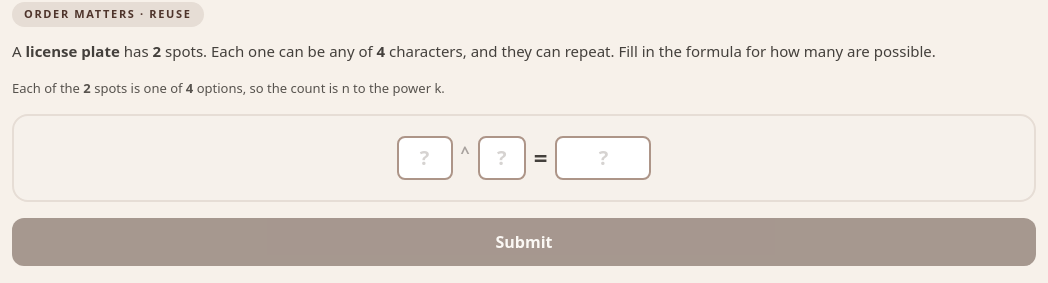
Test case: formula-fill templates (sequence, multiset, distribute) › sequence scores true when every blank is filled correctly
The width and height of the screenshot is (1048, 283).
Type "4" into the field named "sequence base".
click(424, 158); type("4")  # box [396,136,452,180]
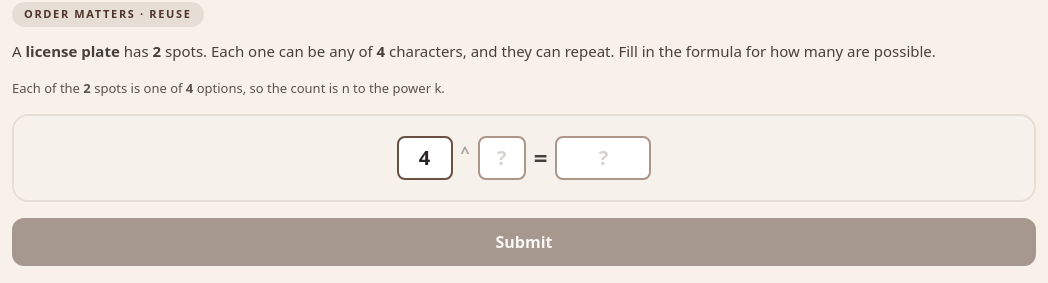
Type "2" into the field named "sequence exponent".
click(502, 158); type("2")  # box [478,136,526,180]
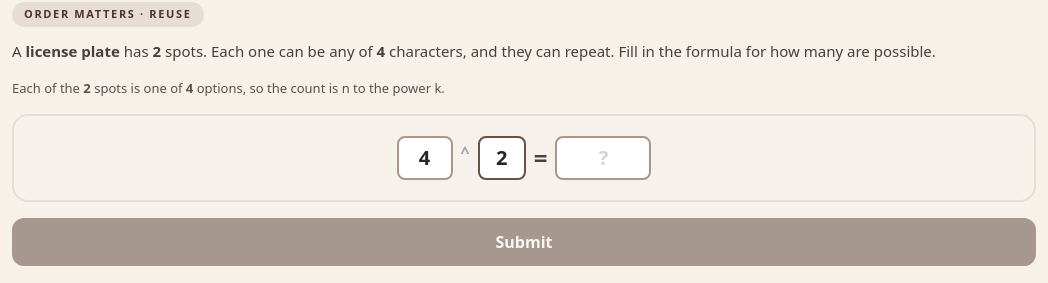
Type "16" into the field named "sequence result".
click(603, 158); type("16")  # box [555,136,651,180]
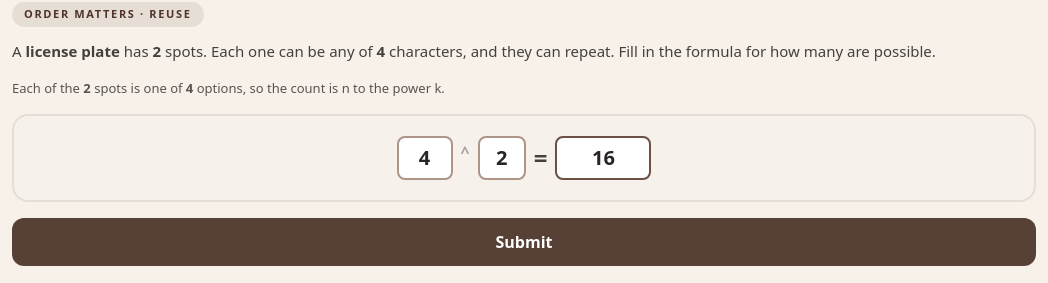
Click the button "Submit".
click(524, 242)  # box [12,218,1036,266]
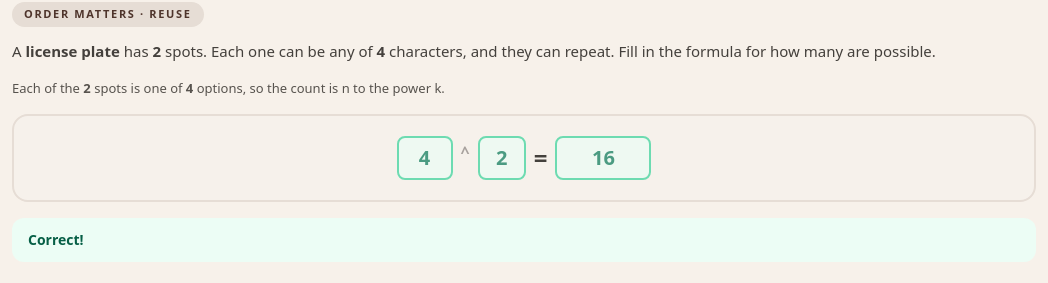
Expected: the button "Submit" is gone
Expected: the field named "sequence result" is disabled, [555,136,651,180]
